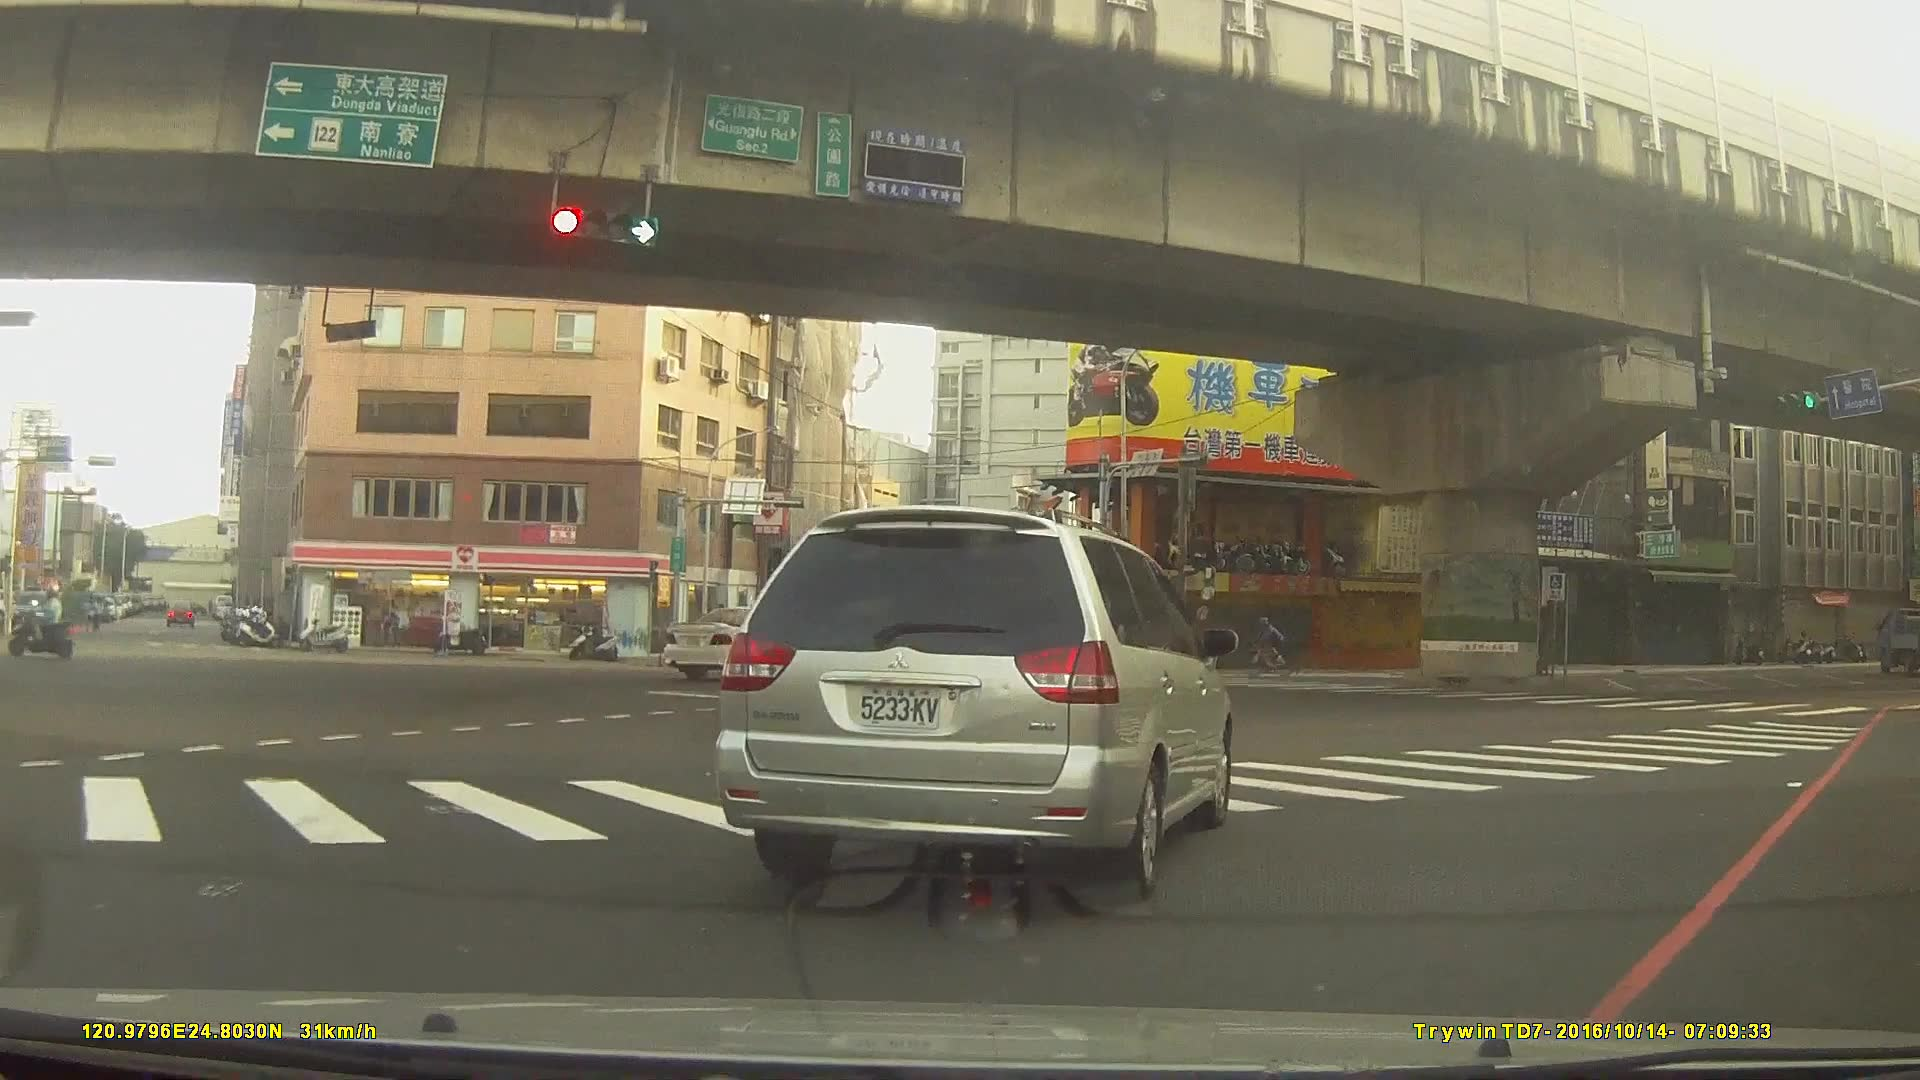rider: (10, 583, 77, 662), (670, 597, 738, 670), (1241, 615, 1298, 679)
vehicle: (714, 504, 1231, 905), (662, 602, 831, 677), (1873, 610, 1920, 674), (836, 632, 908, 673), (161, 596, 192, 624)
